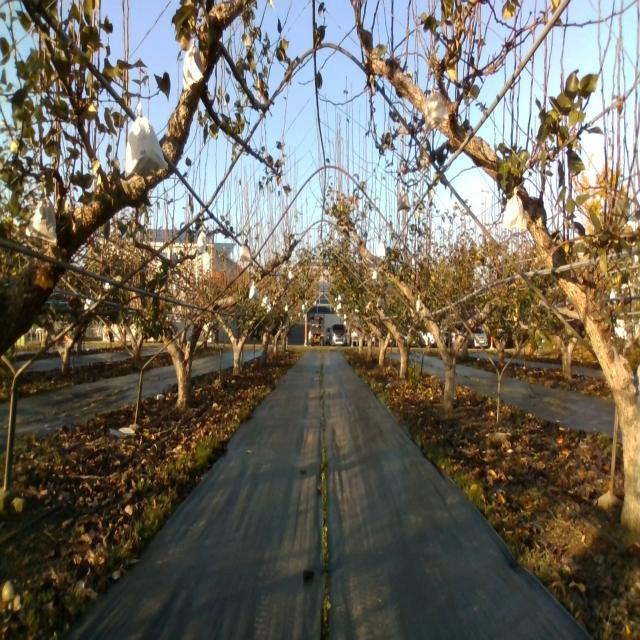pearbags: (123, 102, 170, 180), (26, 195, 58, 246), (501, 188, 529, 232), (424, 85, 448, 133), (182, 39, 204, 89), (397, 189, 410, 210), (239, 244, 251, 263)
